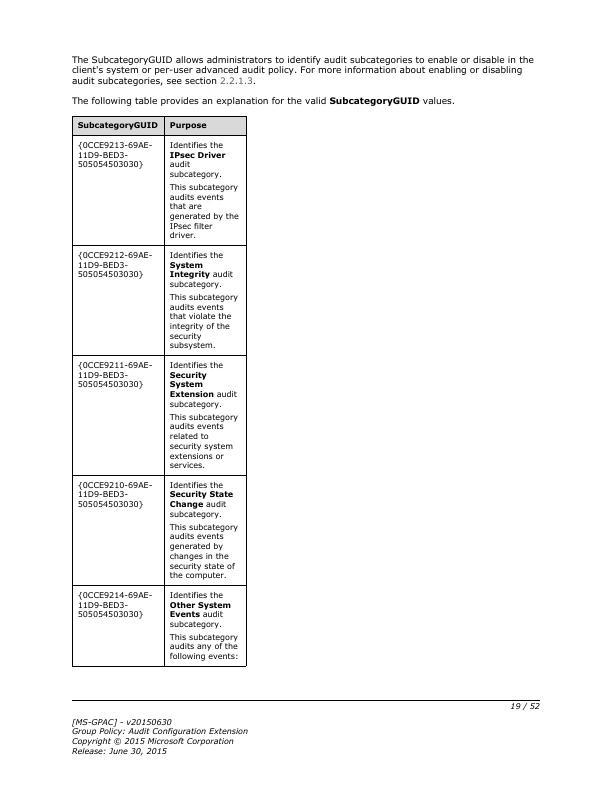table: (70, 114, 249, 669)
text: (69, 52, 536, 89), (68, 713, 252, 757), (70, 94, 459, 108)
